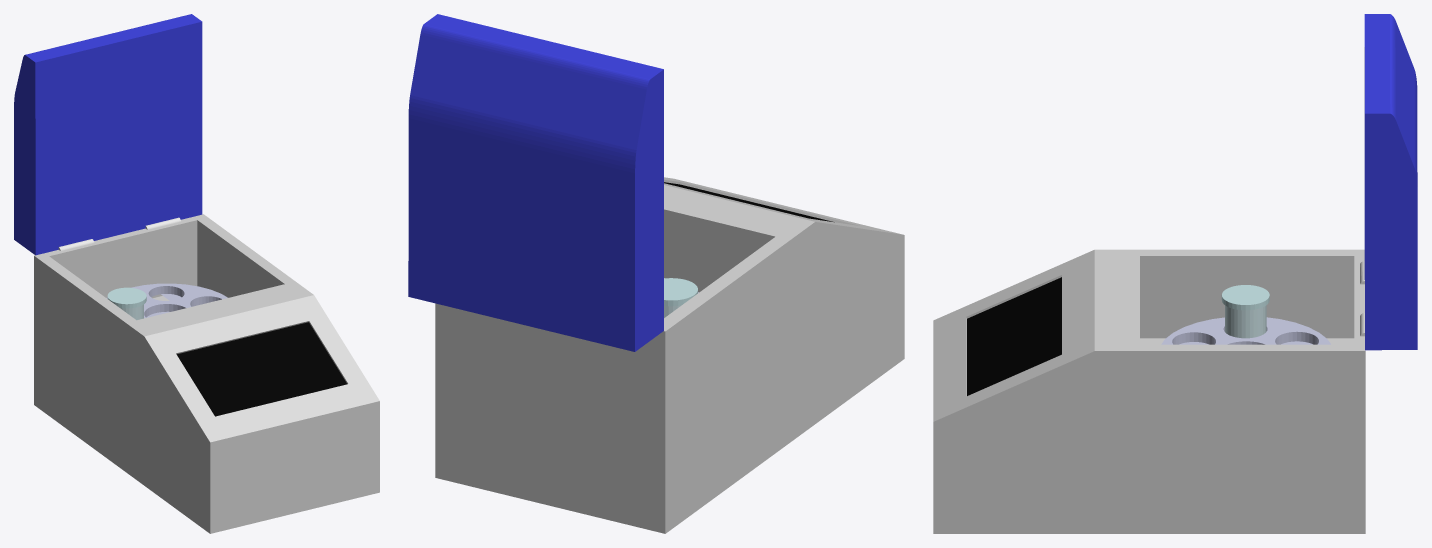
Rendered from XRF machine.fbx.
3 renders of one model, left to right at view 1: azimuth 30°, elevation 25°; view 2: azimuth 150°, elevation 25°; view 3: azimuth 270°, elevation 25°, orthographic. The views are drawn at different scales.
Parts seen in each view (by area): view 1: Than, Nap, man hinh, Khung, NapLo; view 2: Than, Nap, NapLo; view 3: Than, Nap, man hinh, Khung, Lo, NapLo.
Boxes of the visible parts, <box> form: Than: <box>34,214,379,533</box>; Nap: <box>14,14,202,255</box>; man hinh: <box>176,322,346,416</box>; Khung: <box>106,283,227,318</box>; NapLo: <box>107,287,146,308</box>; Than: <box>435,177,904,533</box>; Nap: <box>408,14,663,351</box>; NapLo: <box>664,278,697,306</box>; Than: <box>933,249,1365,533</box>; Nap: <box>1364,14,1417,350</box>; man hinh: <box>967,277,1061,395</box>; Khung: <box>1161,317,1330,344</box>; Lo: <box>1225,305,1266,338</box>; NapLo: <box>1221,285,1269,310</box>.
Size of the model in its own units: 28.05 by 54.07 by 56.56.
